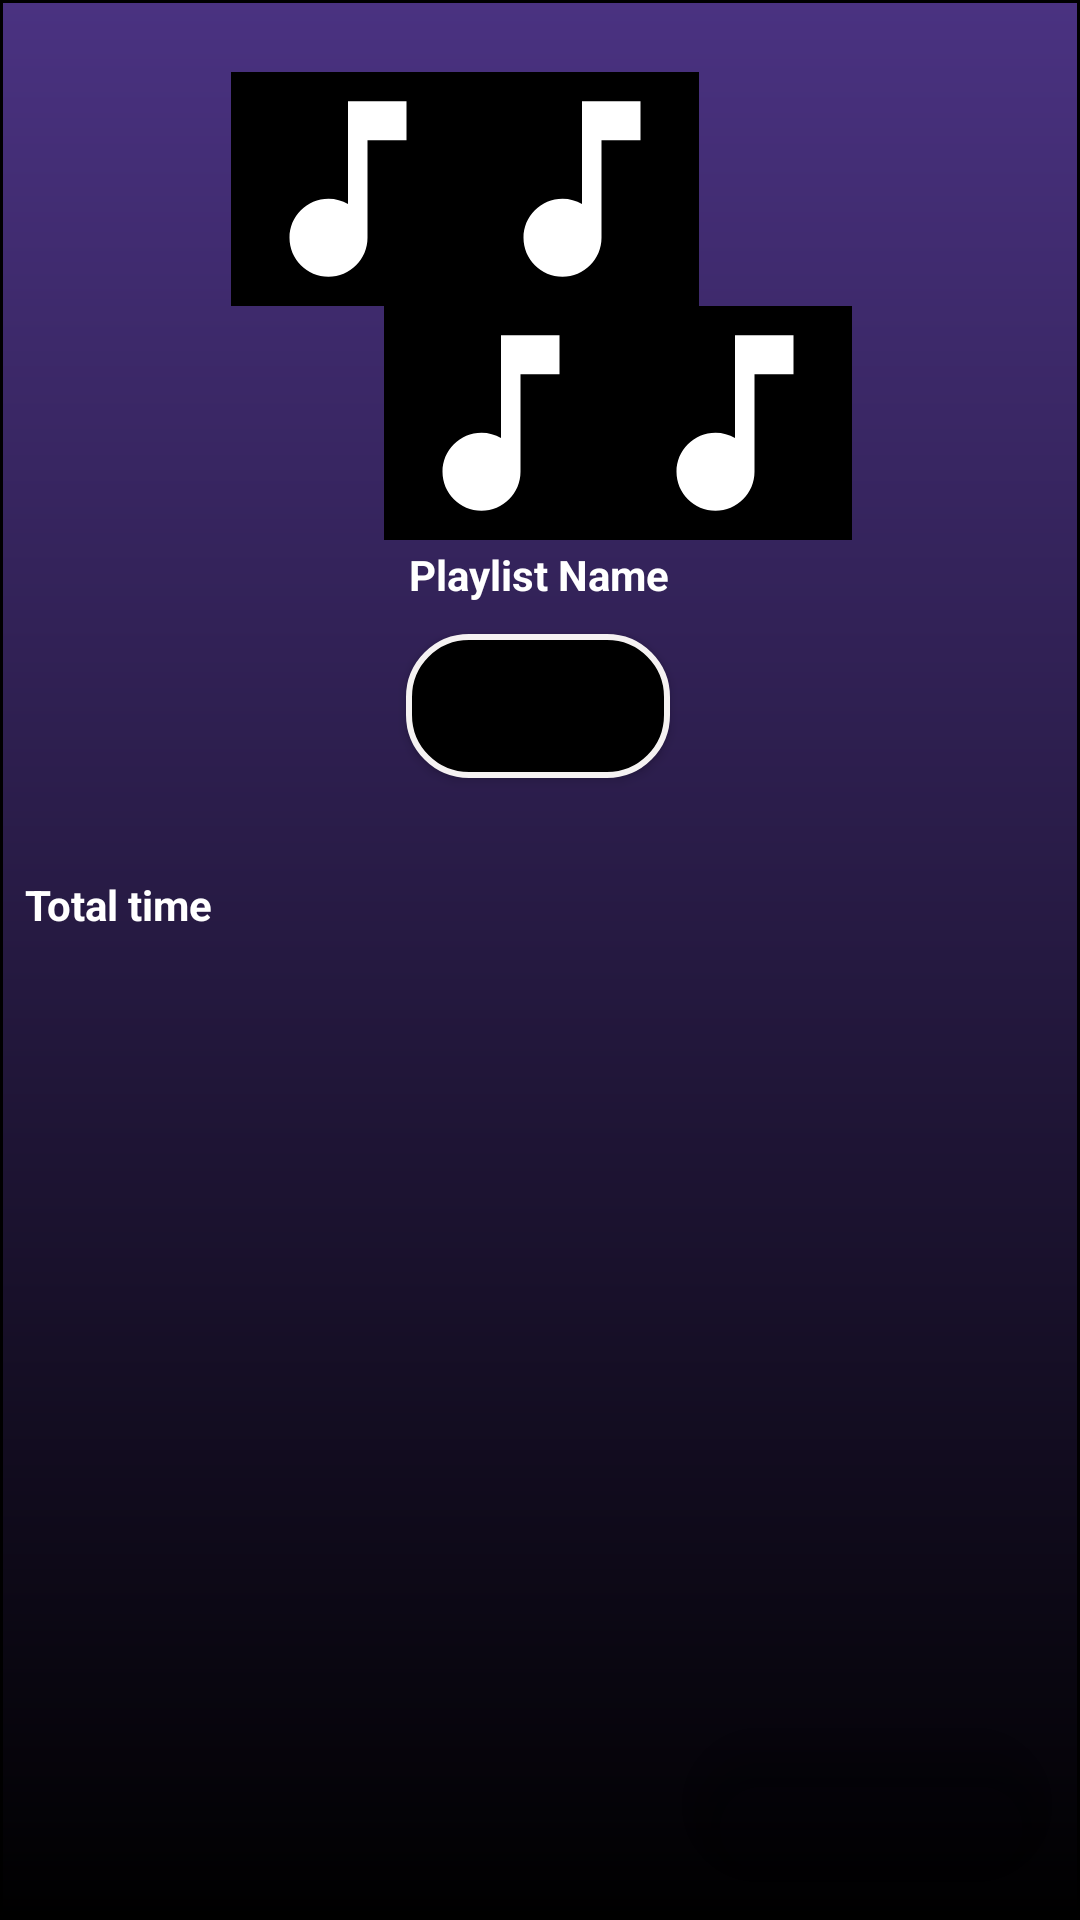

Where to tap for icons on this 1080×1920 app screen, as (x=x, y=y):
music note: (x=348, y=189), (x=582, y=189), (x=501, y=423), (x=735, y=423)
